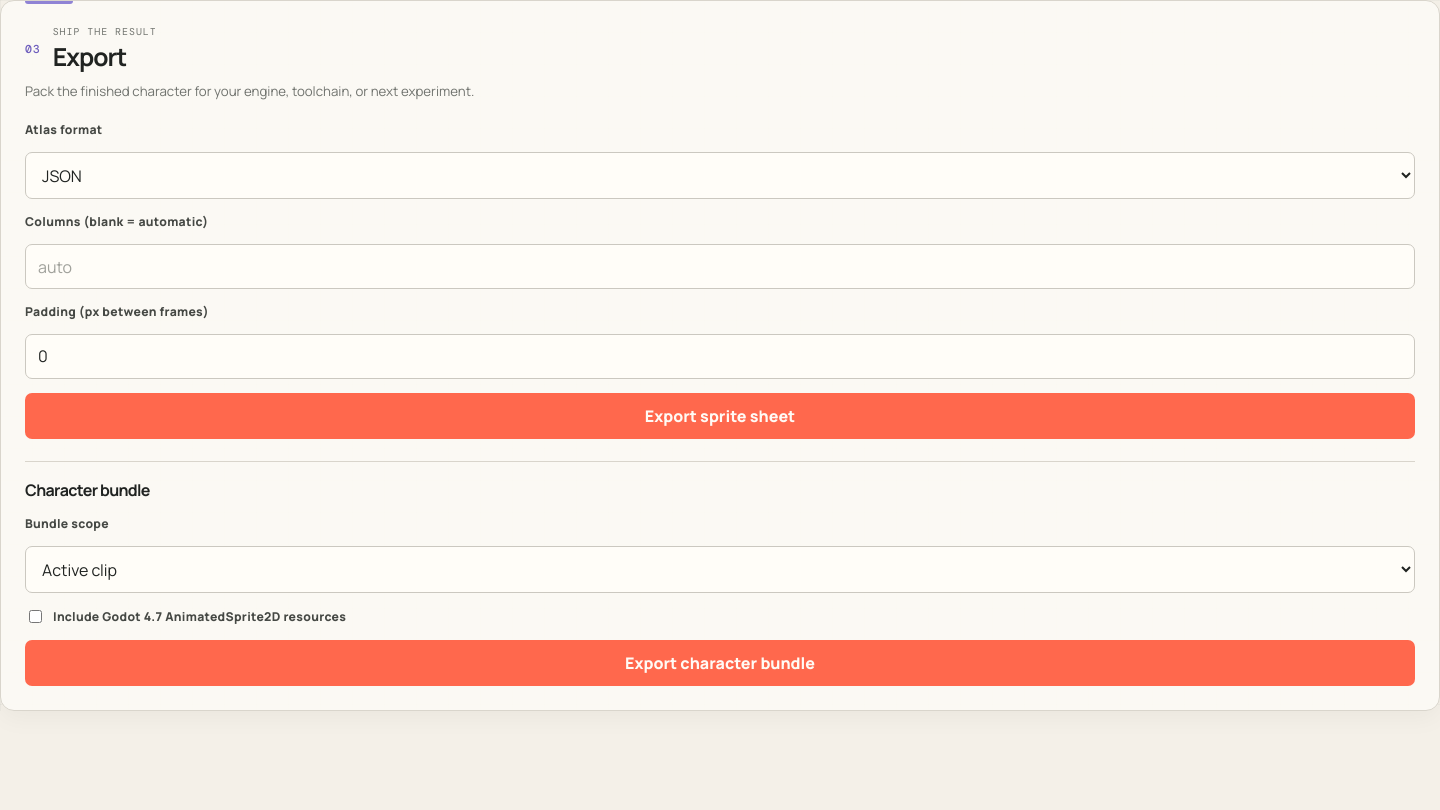
ExportPanel › labels a completed export with the options that produced it
Click the button "Export sprite sheet" at (720,416), box [25,393,1415,439]
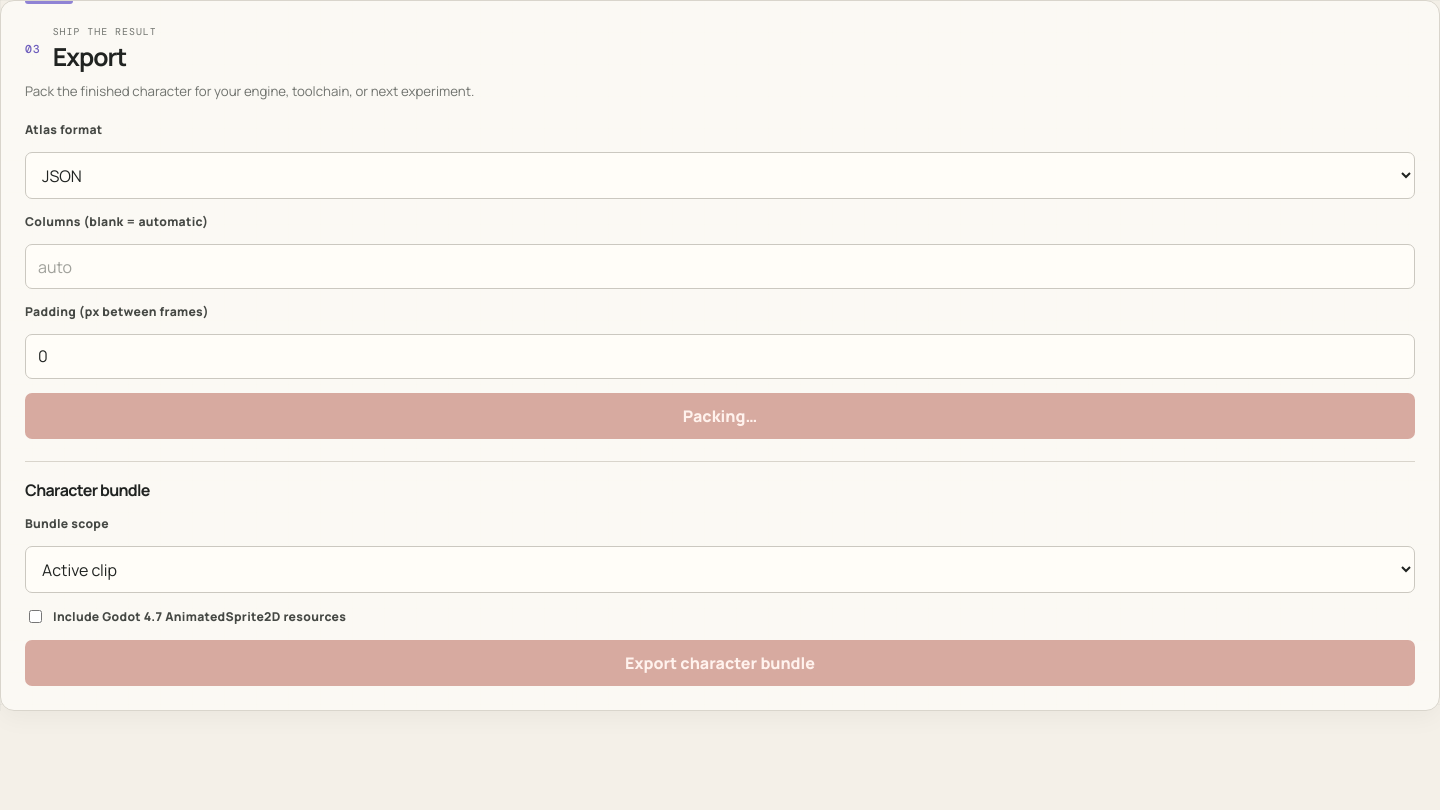
Select "XML" in the dropdown labelled "Atlas format" at (720,176), box [25,152,1415,200]
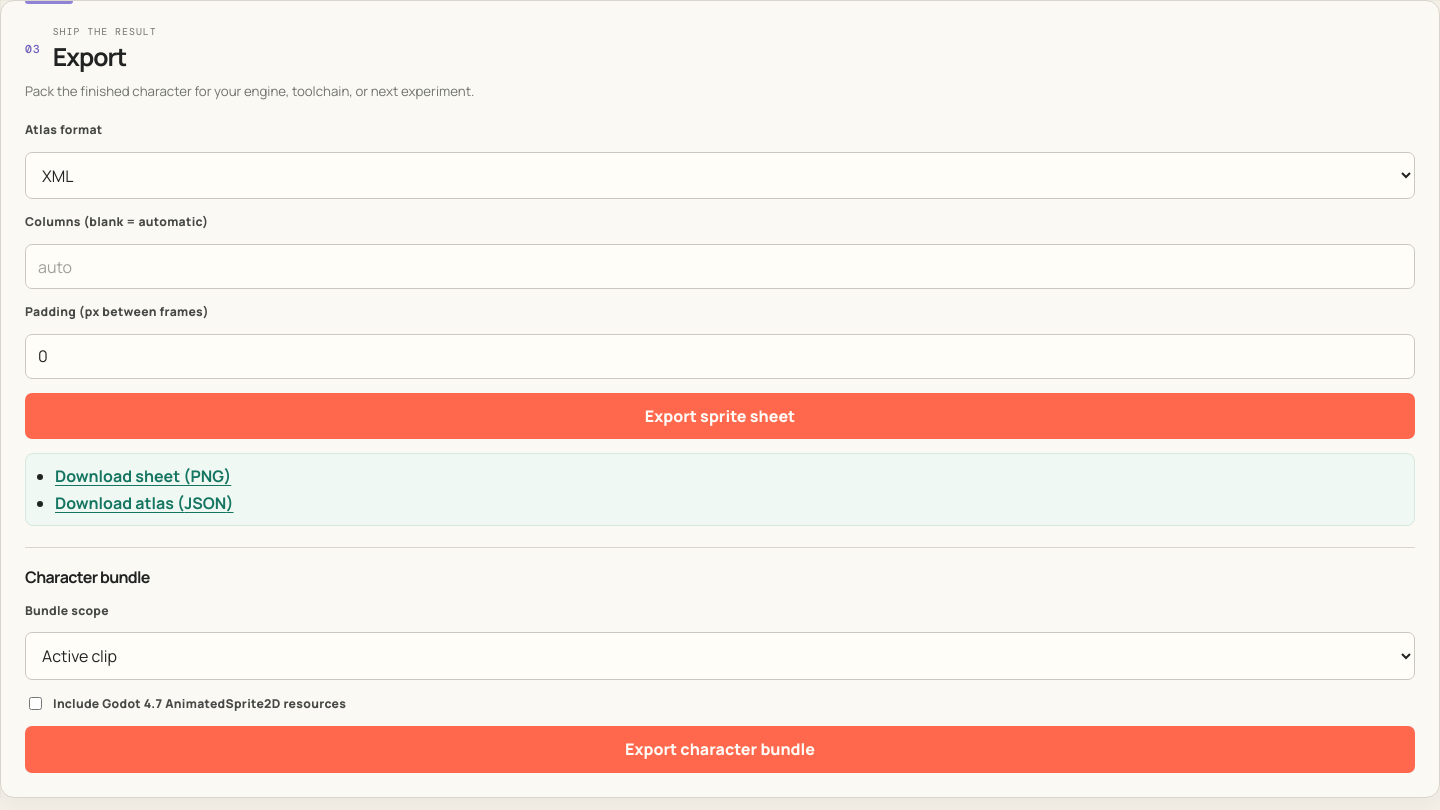
Expected: the link "Download atlas (JSON)" is shown, [55,492,234,514]
